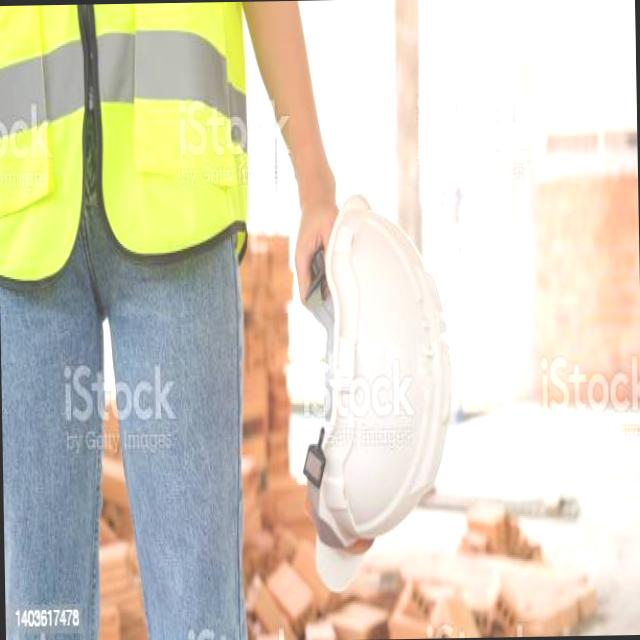helmet: (290, 174, 456, 574)
